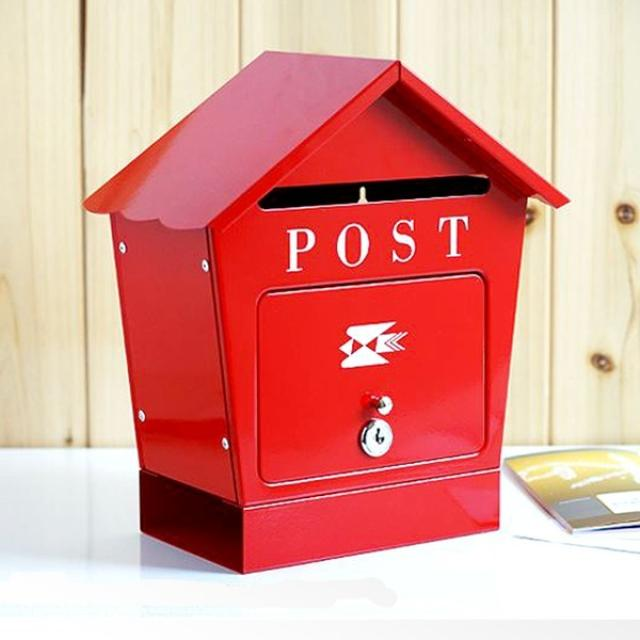Post Box: (79, 47, 572, 578)
